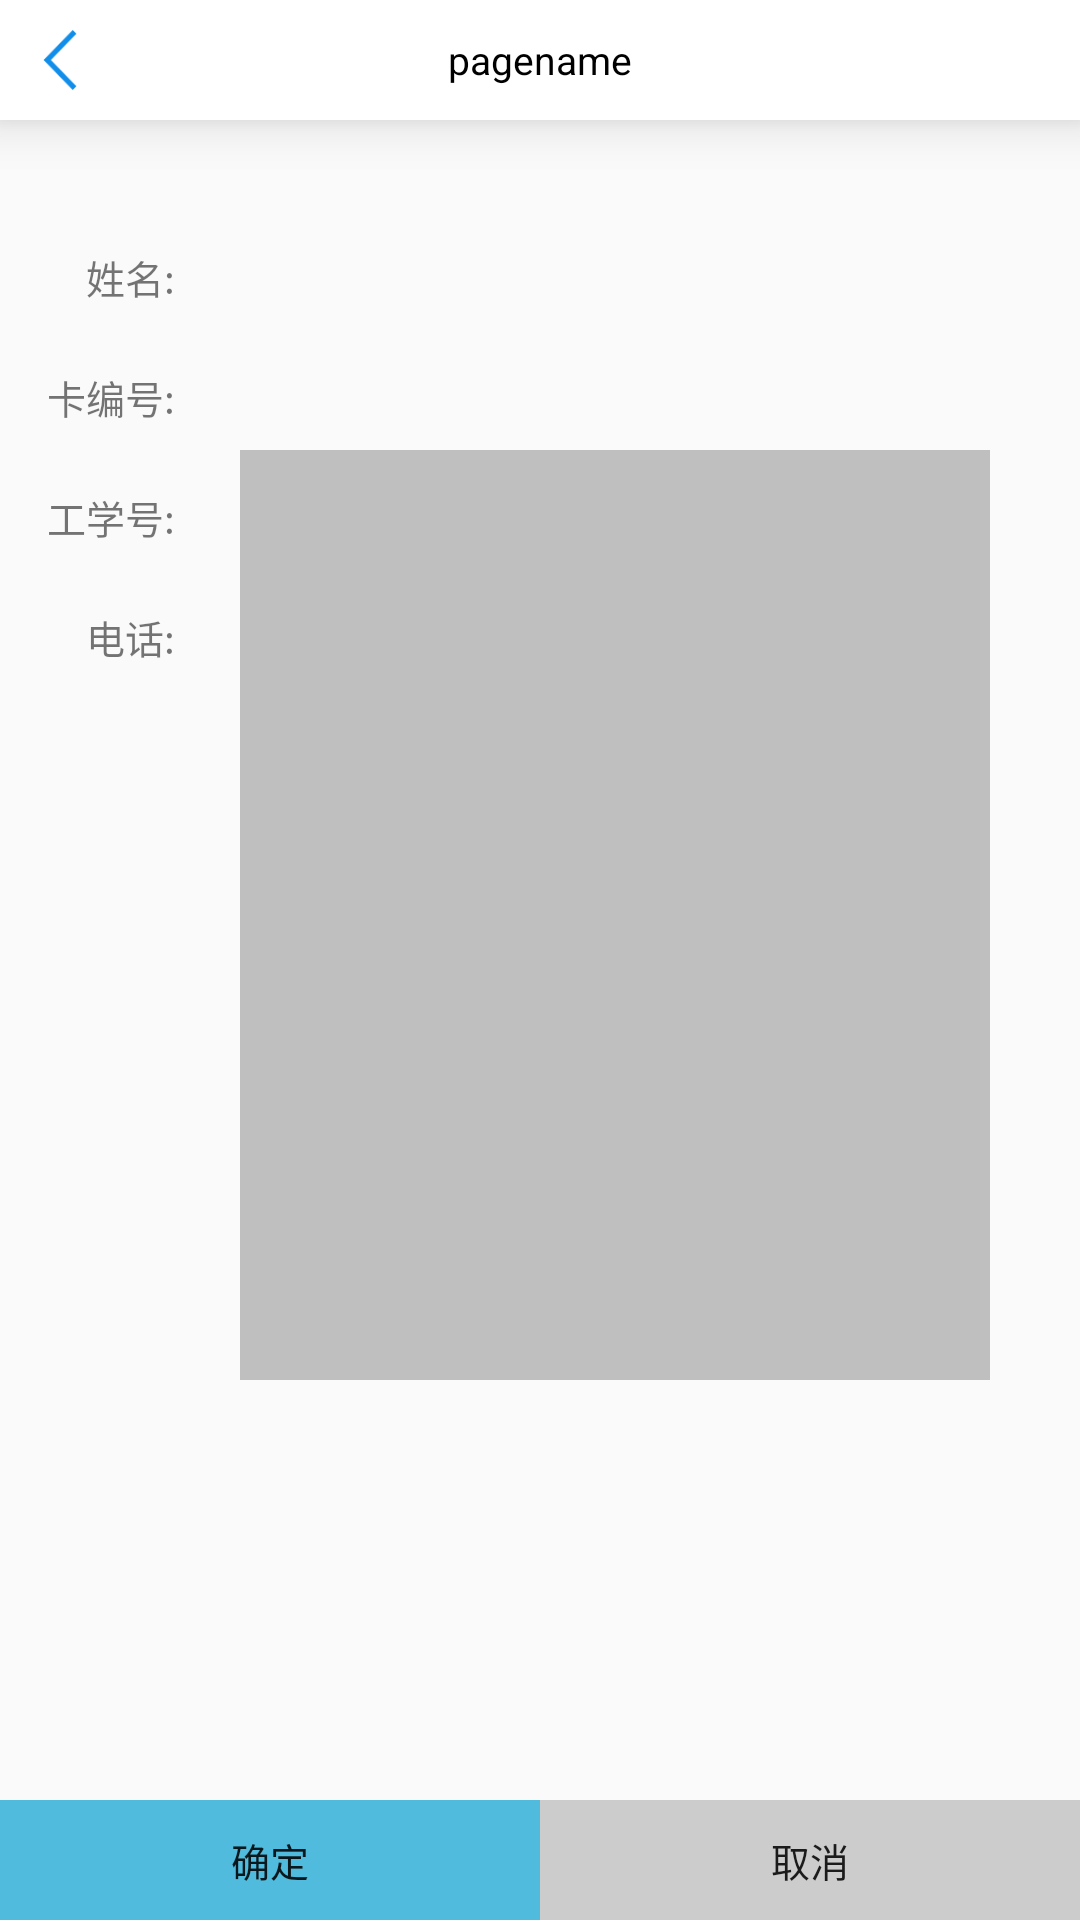

Point at icon controls on the screen. Image size 1080×1920, points as (x,y).
fanhui: (60,60)
